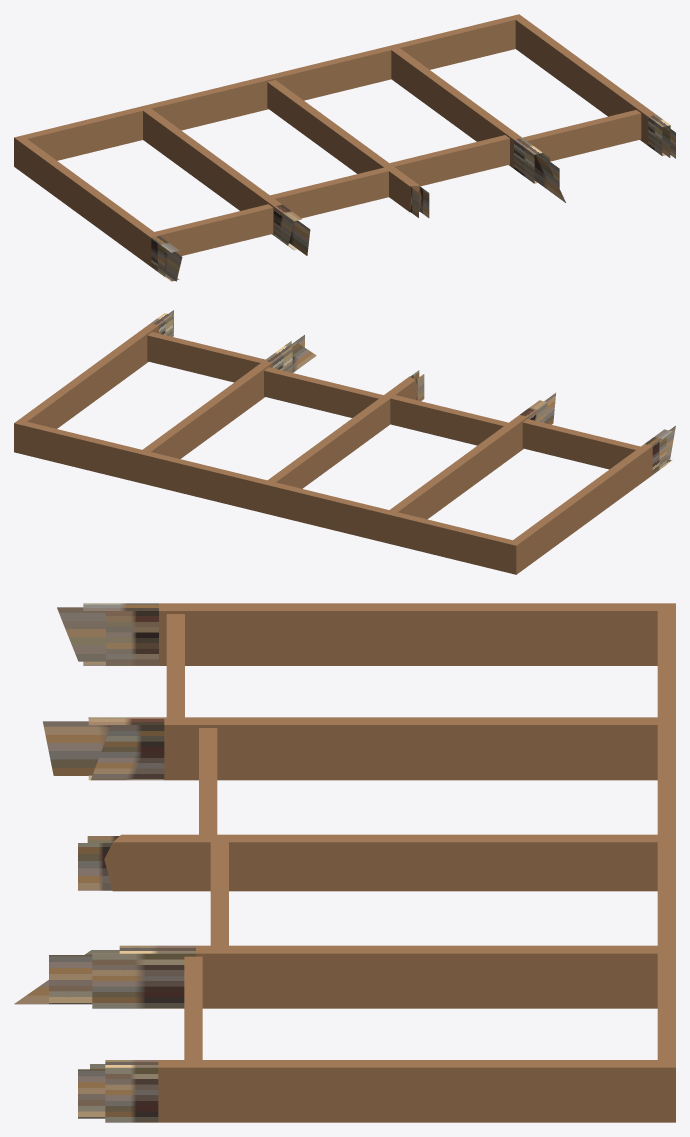
Rendered from DBK_WoodFrame_Floor_Tile_C.fbx.
3 renders of one model, top to bottom at view 1: azimuth 30°, elevation 25°; view 2: azimuth 150°, elevation 25°; view 3: azimuth 270°, elevation 25°, orthographic. The views are drawn at different scales.
Parts seen in each view (by area): view 1: DBK_WoodFrame_Floor_Tile_C; view 2: DBK_WoodFrame_Floor_Tile_C; view 3: DBK_WoodFrame_Floor_Tile_C.
Part boxes in pixels (x1,y1,x2,y2): DBK_WoodFrame_Floor_Tile_C: [14, 14, 675, 281]; DBK_WoodFrame_Floor_Tile_C: [14, 310, 675, 574]; DBK_WoodFrame_Floor_Tile_C: [14, 603, 675, 1122].
Size of the model in its own units: 300 by 16.58 by 181.
